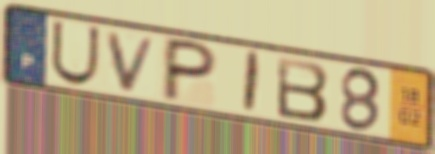8: (338, 65, 382, 134)
B: (275, 54, 332, 124)
I: (240, 48, 264, 117)
P: (157, 35, 221, 104)
U: (48, 18, 103, 87)
V: (104, 30, 161, 95)
